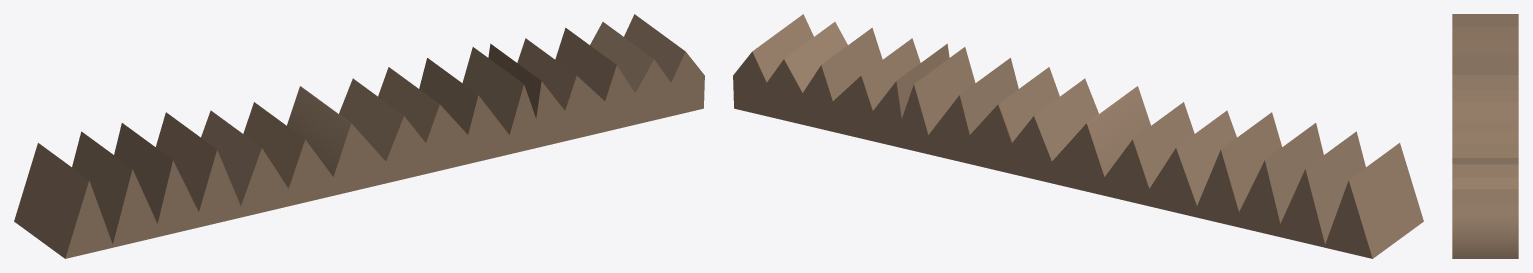
The model's file is Ridge.fbx.
The picture shows the model from 3 angles, left to right: view 1: azimuth 30°, elevation 25°; view 2: azimuth 150°, elevation 25°; view 3: azimuth 270°, elevation 25°; orthographic projection. The views are drawn at different scales.
Parts seen in each view (by area): view 1: root; view 2: root; view 3: root.
Boxes of the visible parts, left/top/right/bottom form: root: left=14, top=14, right=704, bottom=258; root: left=733, top=14, right=1423, bottom=258; root: left=1452, top=14, right=1518, bottom=258.
Bounding box in the file's own units: 1.22 × 0.1444 × 0.169.
Materials: 1 (1 with a texture image).
